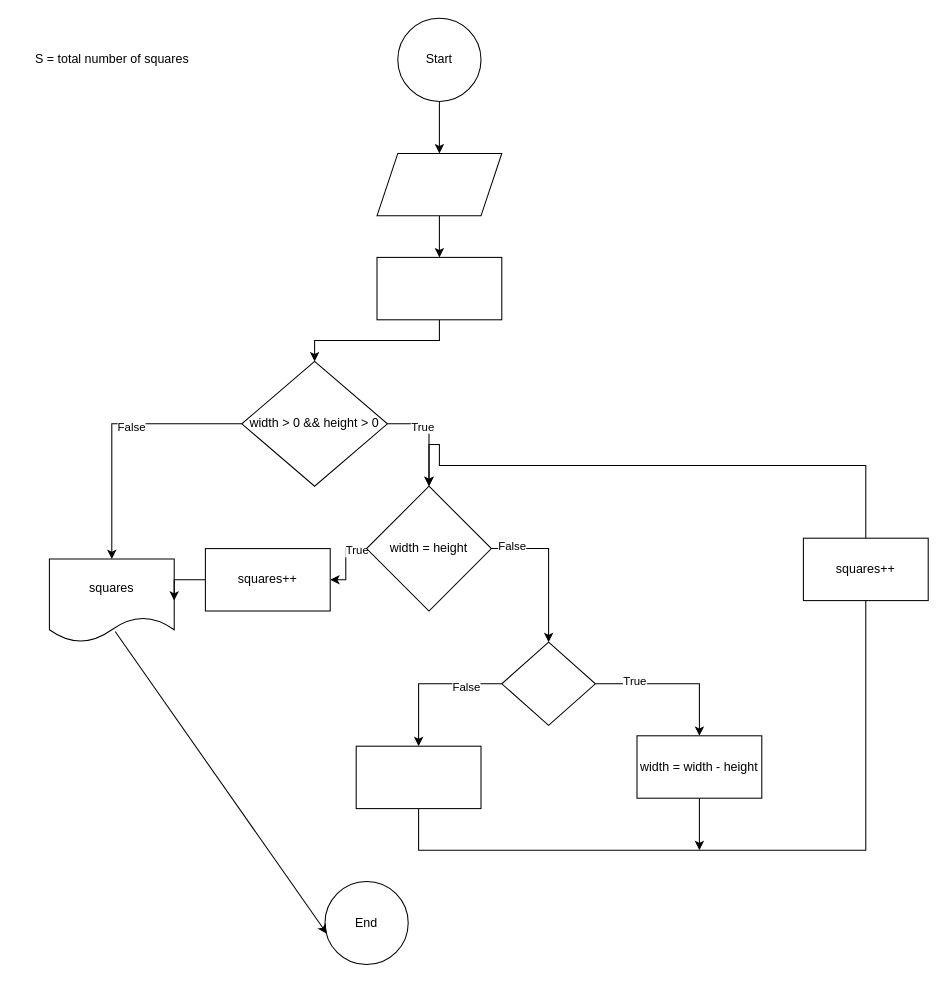
Some shapes in this 946 by 983 pixel diagram are drawn without their labels. Each missing label, with the box of its shape:
height = height - width: (355, 745, 481, 809)
squares = 0: (376, 256, 502, 320)
width > height: (501, 641, 595, 725)
width, height: (376, 152, 502, 216)
